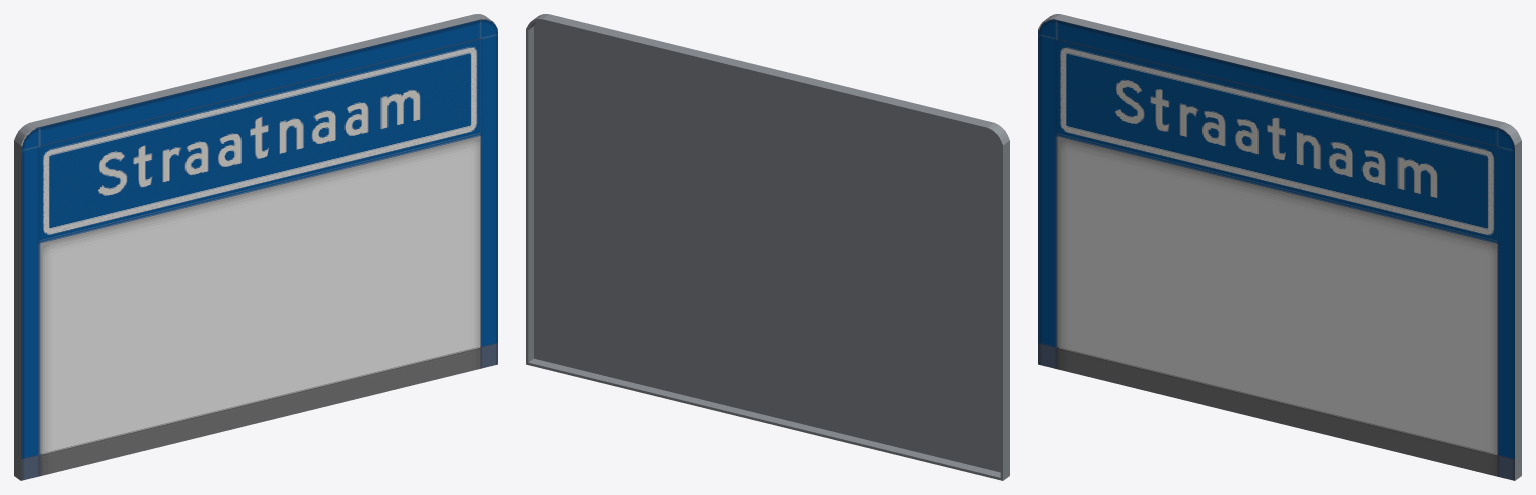
The picture shows the model from 3 angles, left to right: view 1: azimuth 30°, elevation 25°; view 2: azimuth 150°, elevation 25°; view 3: azimuth 330°, elevation 25°; orthographic projection.
Parts seen in each view (by area): view 1: cat_1f786e499293af55; view 2: cat_1f786e499293af55; view 3: cat_1f786e499293af55.
Part boxes in pixels (x1,y1,x2,y2): cat_1f786e499293af55: [14, 14, 497, 480]; cat_1f786e499293af55: [526, 14, 1009, 480]; cat_1f786e499293af55: [1038, 14, 1521, 480].
Bounding box in the file's own units: 0.6 × 0.015 × 0.4199.
Materials: 2 (1 with a texture image).
